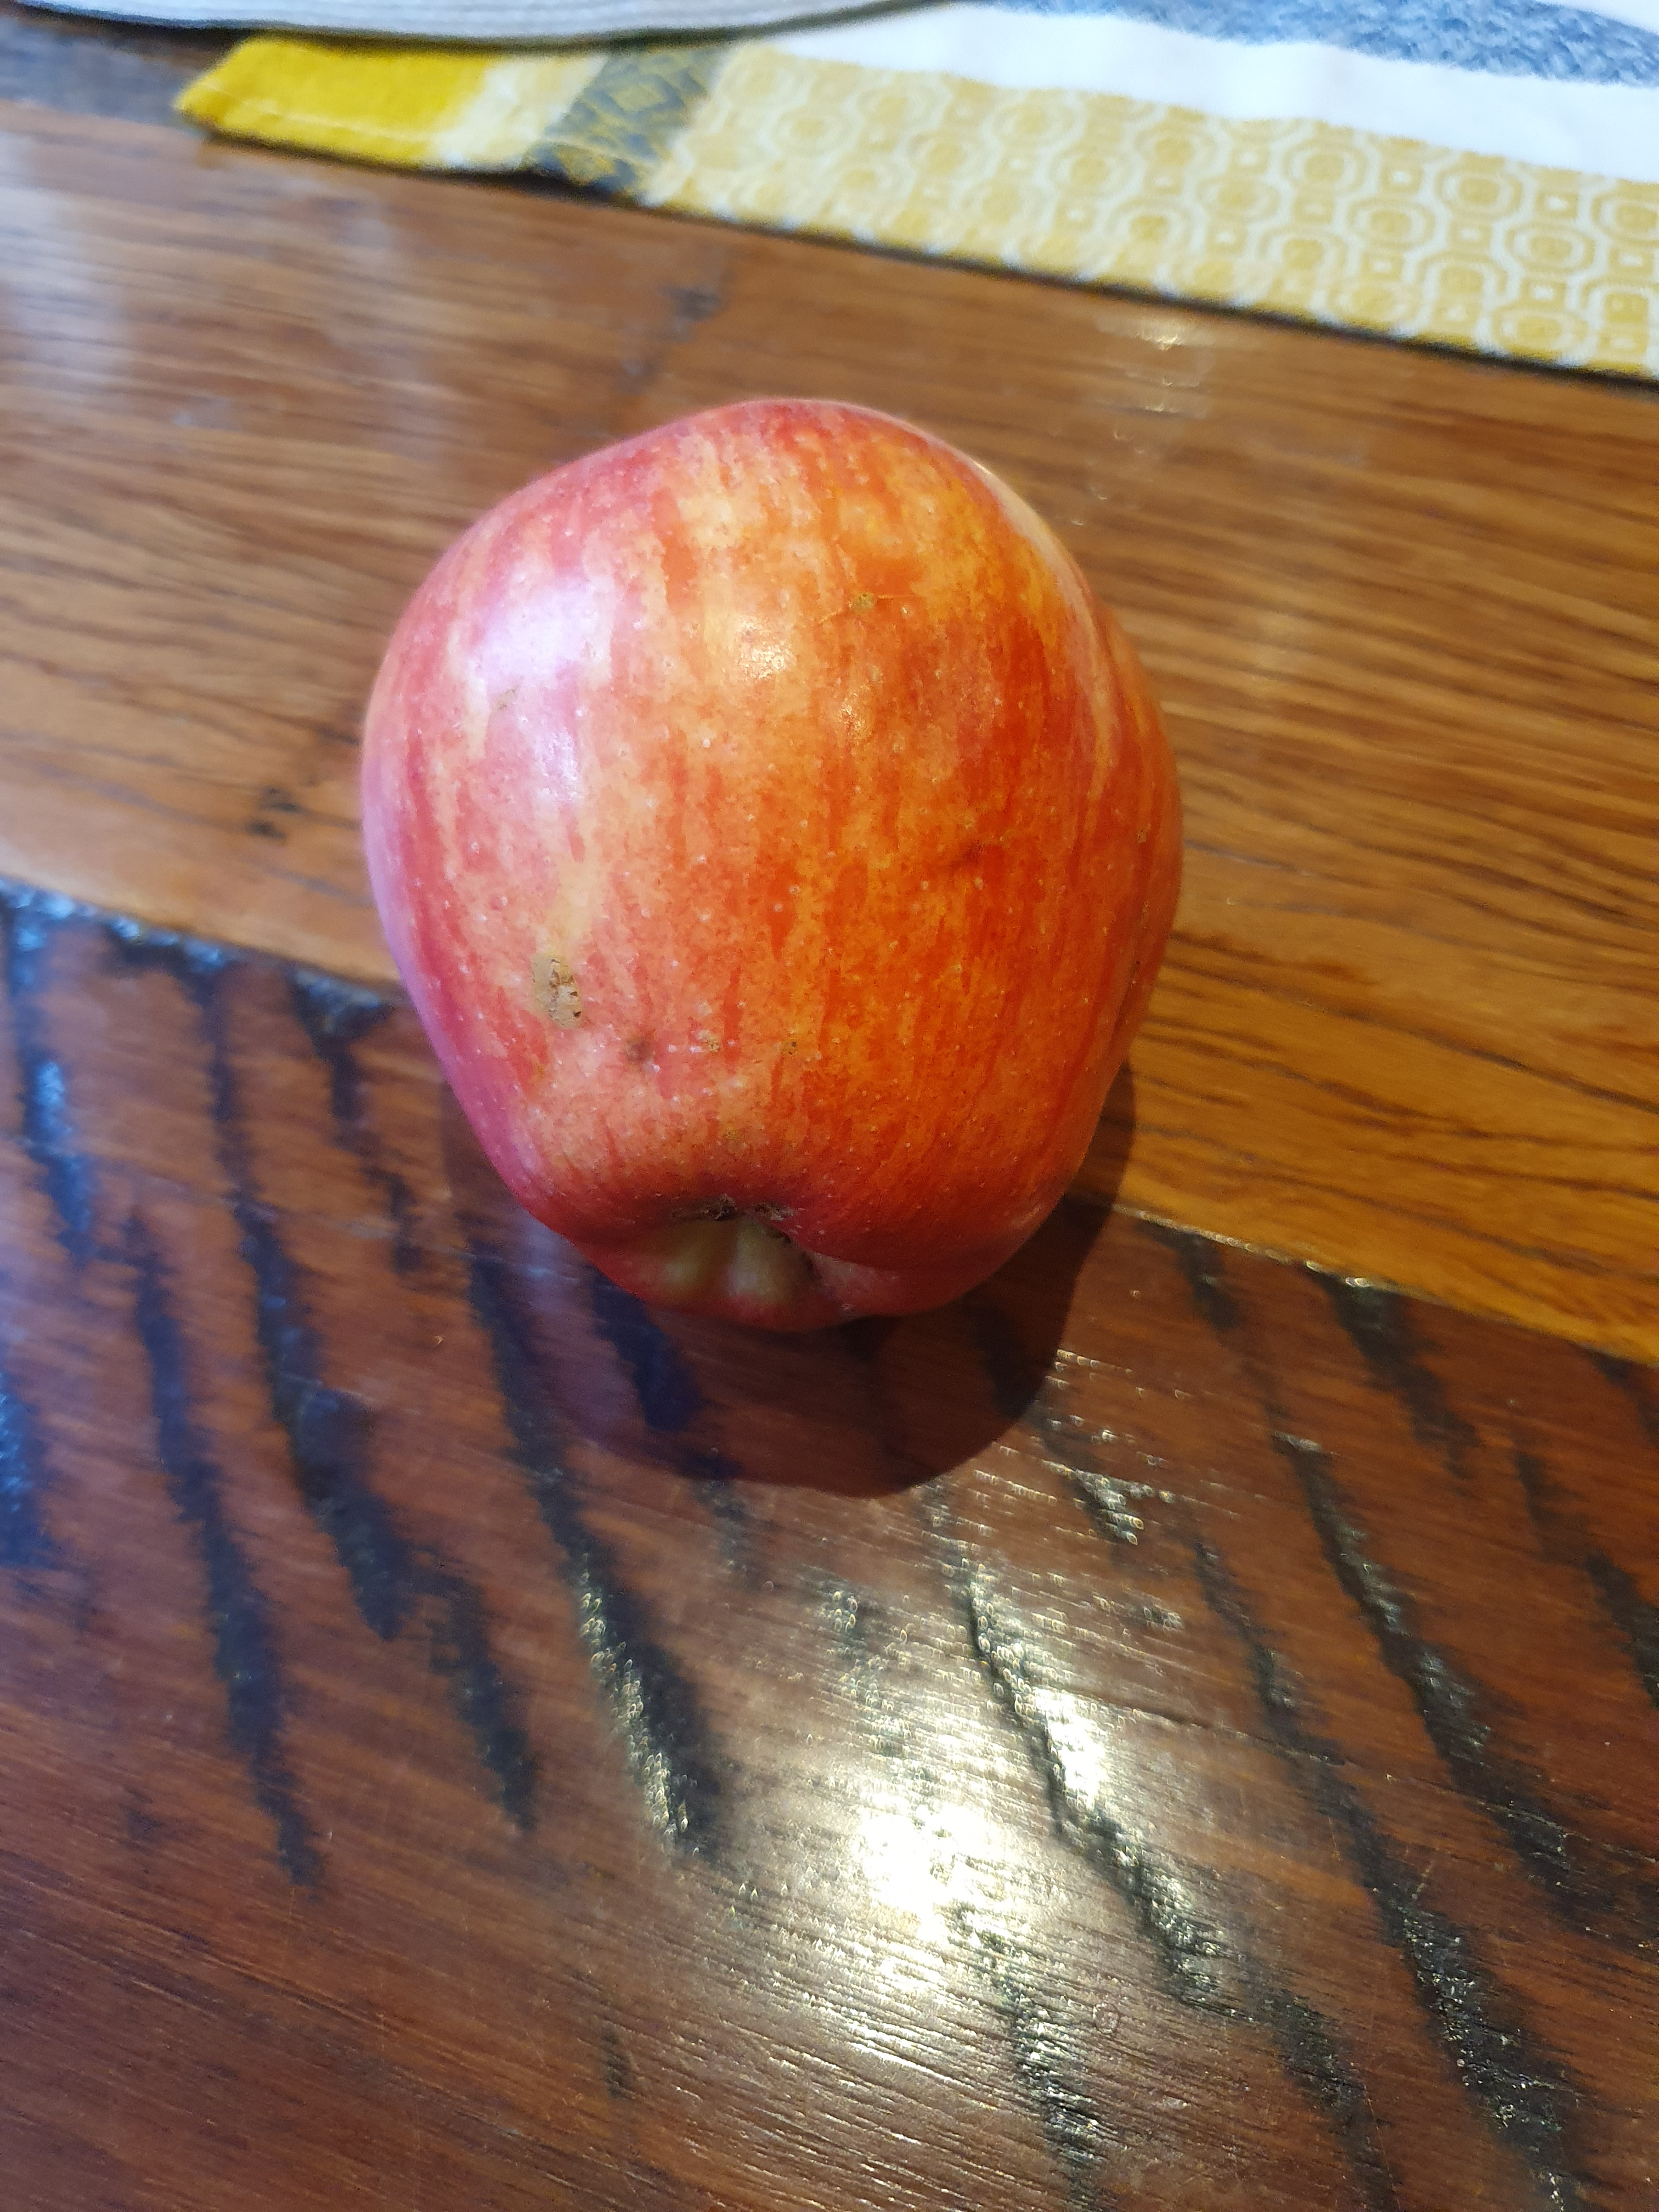red_apple: (328, 364, 1201, 1355)
